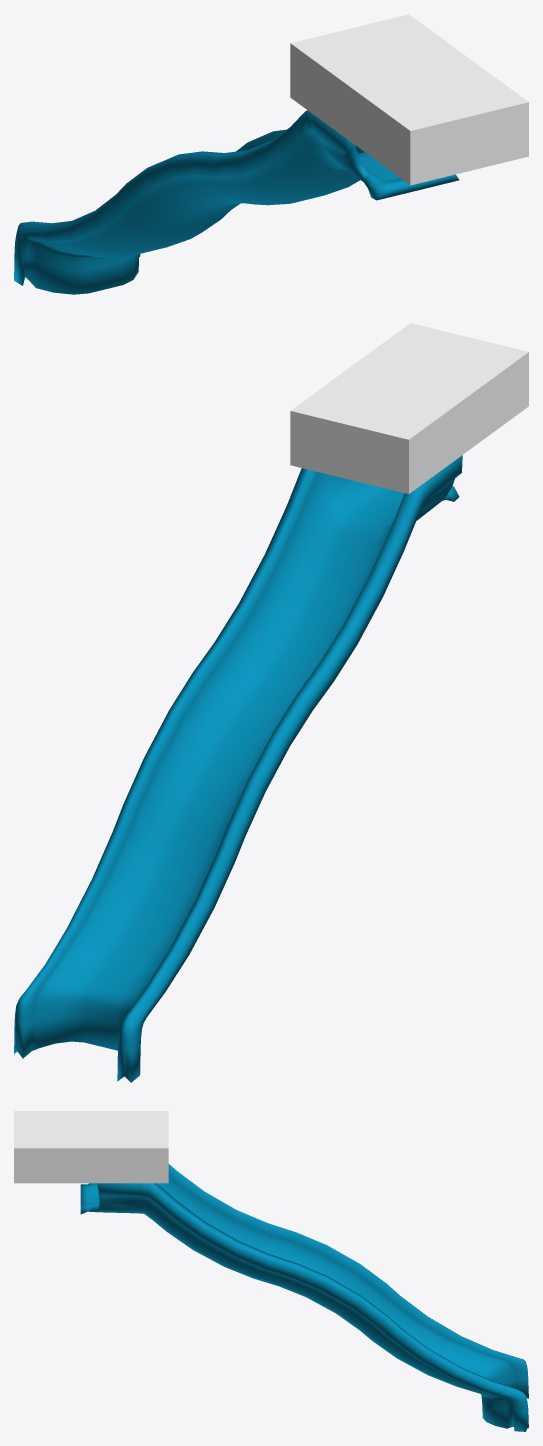
Rendered from WS-10.4cfae76e.glb.
3 views of the same model, one above another, from view 1: azimuth 30°, elevation 25°; view 2: azimuth 150°, elevation 25°; view 3: azimuth 270°, elevation 25° (orthographic). The views are drawn at different scales.
Visible parts, largest first — view 1: Plane034,_colorize_, joint,0,6; view 2: Plane034,_colorize_, joint,0,6; view 3: Plane034,_colorize_, joint,0,6.
Boxes of the visible parts, x1,y1,x2,y2 form: Plane034,_colorize_: (14, 110, 459, 294); joint,0,6: (290, 14, 528, 185); Plane034,_colorize_: (14, 455, 462, 1082); joint,0,6: (290, 323, 528, 493); Plane034,_colorize_: (80, 1164, 528, 1431); joint,0,6: (14, 1111, 168, 1183).
Bounding box in the file's own units: 0.57 × 2.02 × 3.33.
